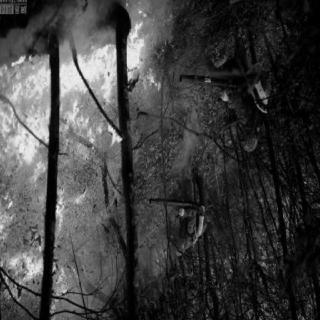Fire: (2, 52, 124, 308), (125, 31, 161, 94)
